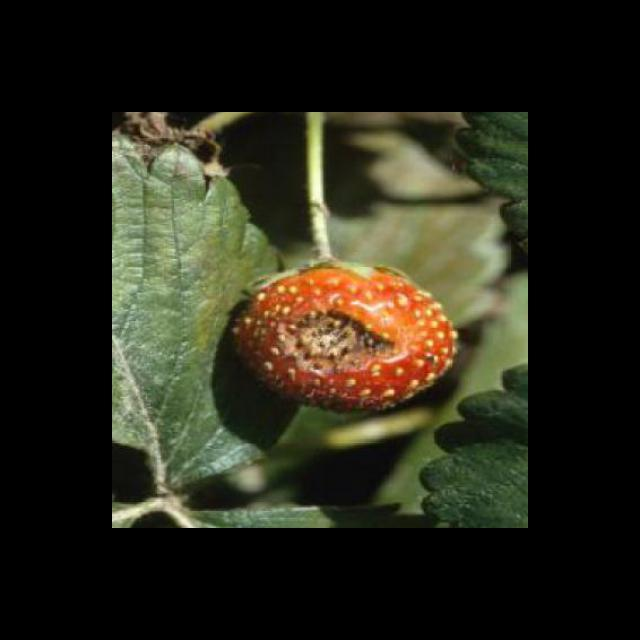Anthracnose Fruit Rot: (263, 307, 413, 378)
